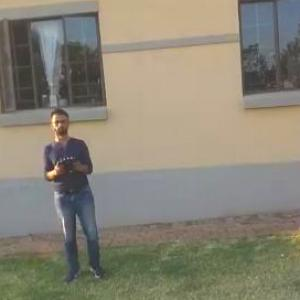follow: (44, 108, 110, 296)
